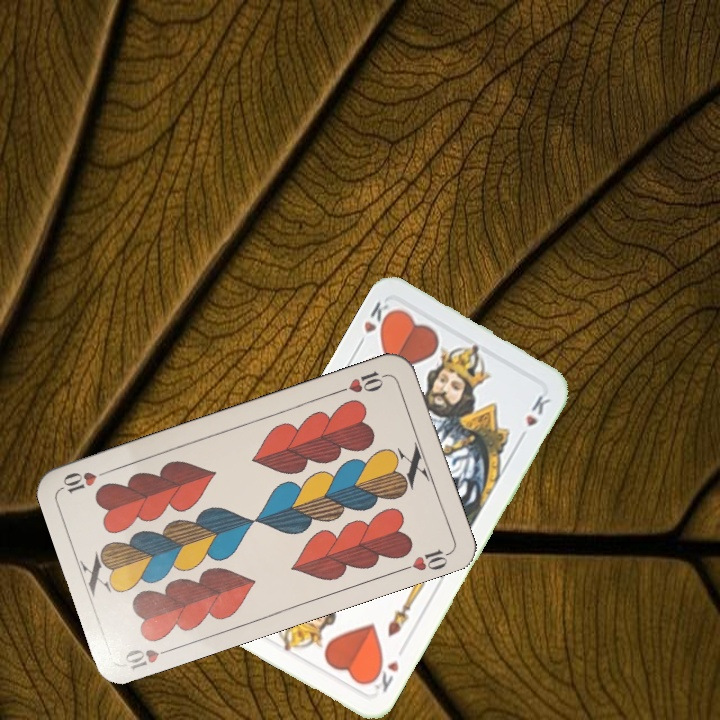H10: (120, 643, 178, 673), (333, 367, 391, 396)
HK: (353, 296, 398, 351), (365, 655, 402, 695)
